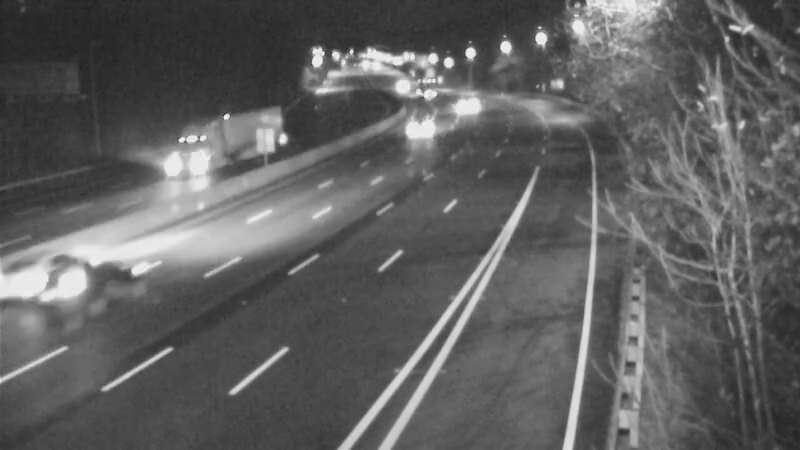vehicle: (47, 250, 127, 330), (136, 127, 216, 207), (1, 239, 77, 319), (374, 60, 424, 110), (397, 61, 447, 111), (439, 79, 489, 129), (409, 94, 459, 144)
